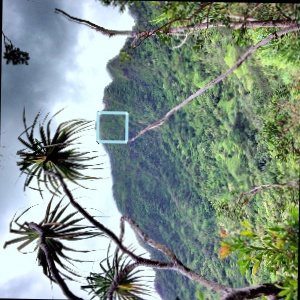square: (94, 109, 130, 145)
